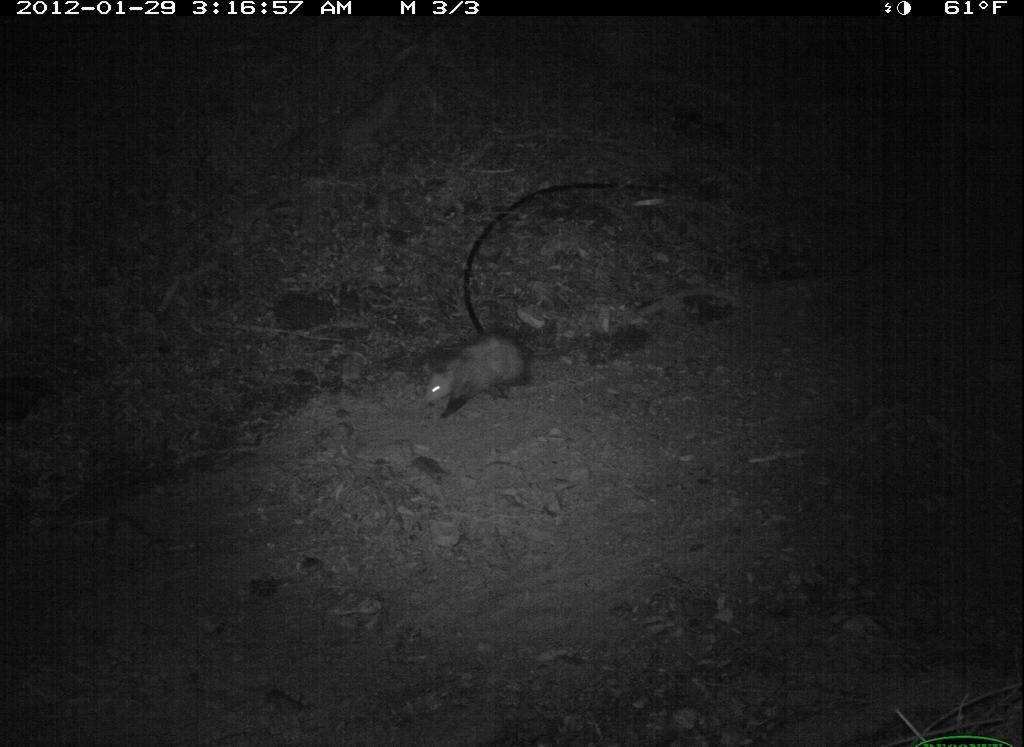opossum: (410, 328, 550, 418)
